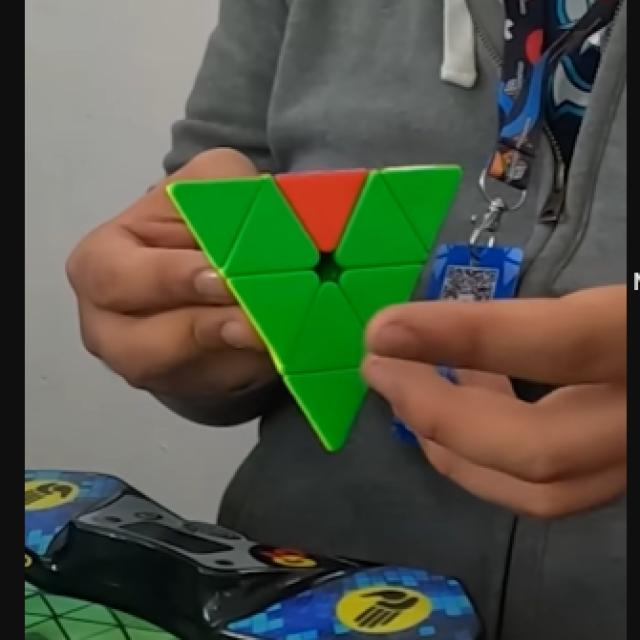Pyraminx: (157, 161, 470, 467)
